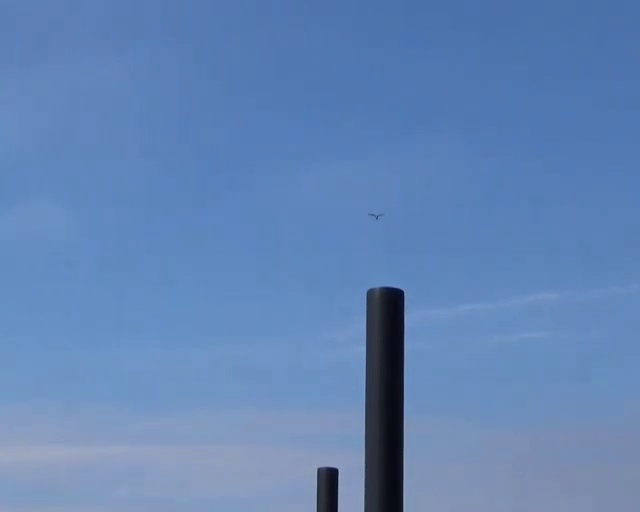BIRD: (368, 211, 385, 220)
